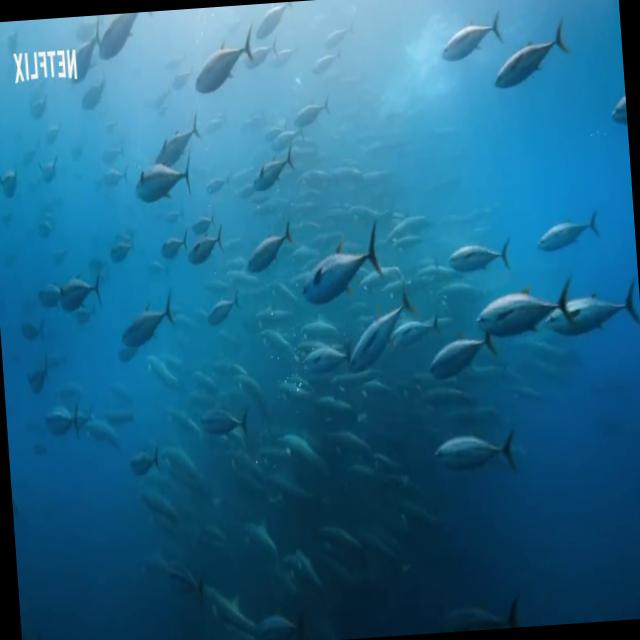fish: (535, 258, 640, 341), (464, 266, 570, 346), (296, 220, 382, 312), (341, 280, 420, 380), (425, 412, 527, 488), (487, 16, 571, 94), (188, 28, 259, 92), (426, 320, 496, 384), (113, 292, 177, 361), (434, 7, 506, 64), (239, 218, 299, 284), (536, 204, 603, 253), (128, 152, 192, 202), (444, 237, 512, 281), (247, 140, 298, 196), (57, 266, 106, 322)
